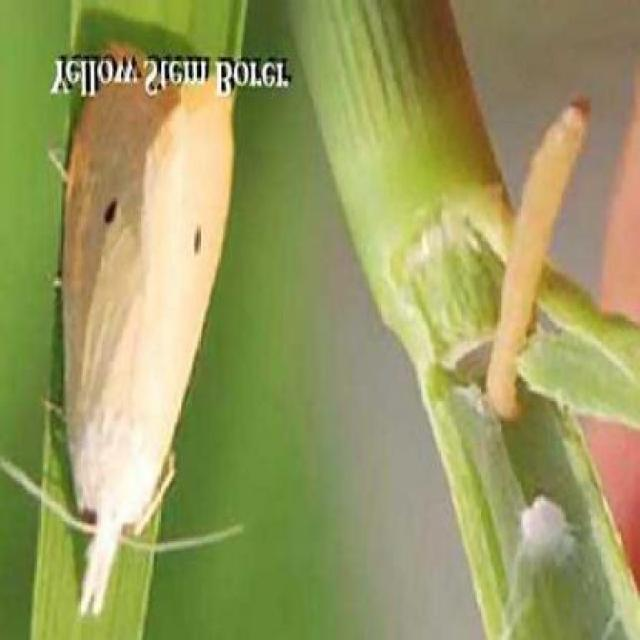stem-borer: (46, 105, 240, 624)
